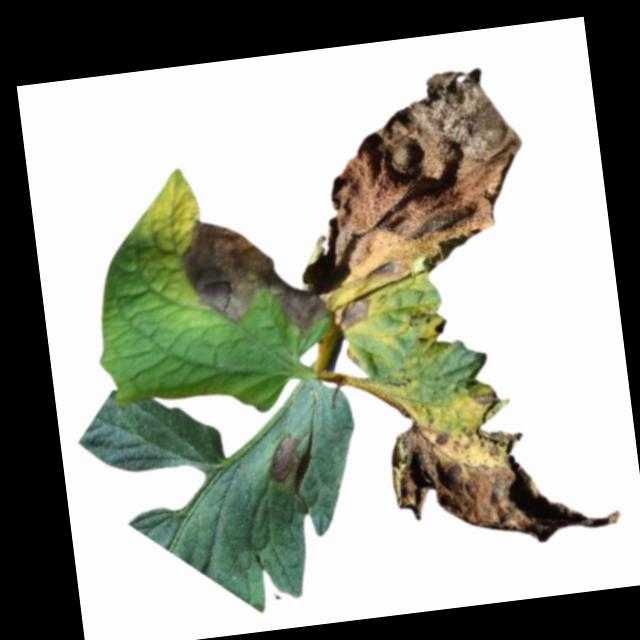Early_blight: (315, 64, 537, 285), (377, 375, 623, 561), (175, 204, 332, 345), (267, 432, 302, 484), (337, 296, 373, 330), (432, 317, 448, 335)
